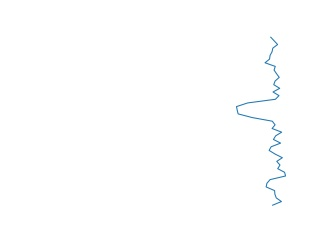interdistributaryEstuary: (231, 36, 291, 207)
